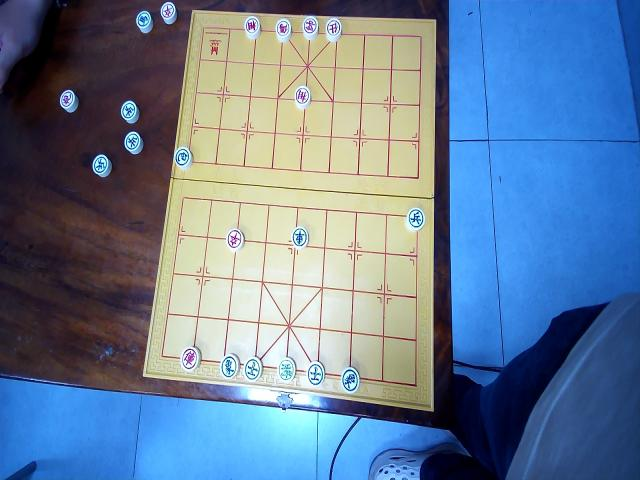piece: (180, 345, 200, 372), (405, 206, 425, 231), (243, 355, 262, 381), (341, 367, 360, 393), (91, 154, 111, 178), (220, 352, 238, 378), (59, 88, 78, 112), (324, 17, 342, 42), (226, 227, 244, 252), (174, 145, 192, 170), (278, 357, 296, 382), (120, 99, 138, 124), (307, 361, 324, 387), (290, 226, 309, 249), (159, 0, 177, 24), (124, 130, 142, 154), (275, 16, 291, 42), (302, 15, 318, 40), (244, 15, 260, 40), (294, 86, 310, 110), (136, 10, 152, 34)
